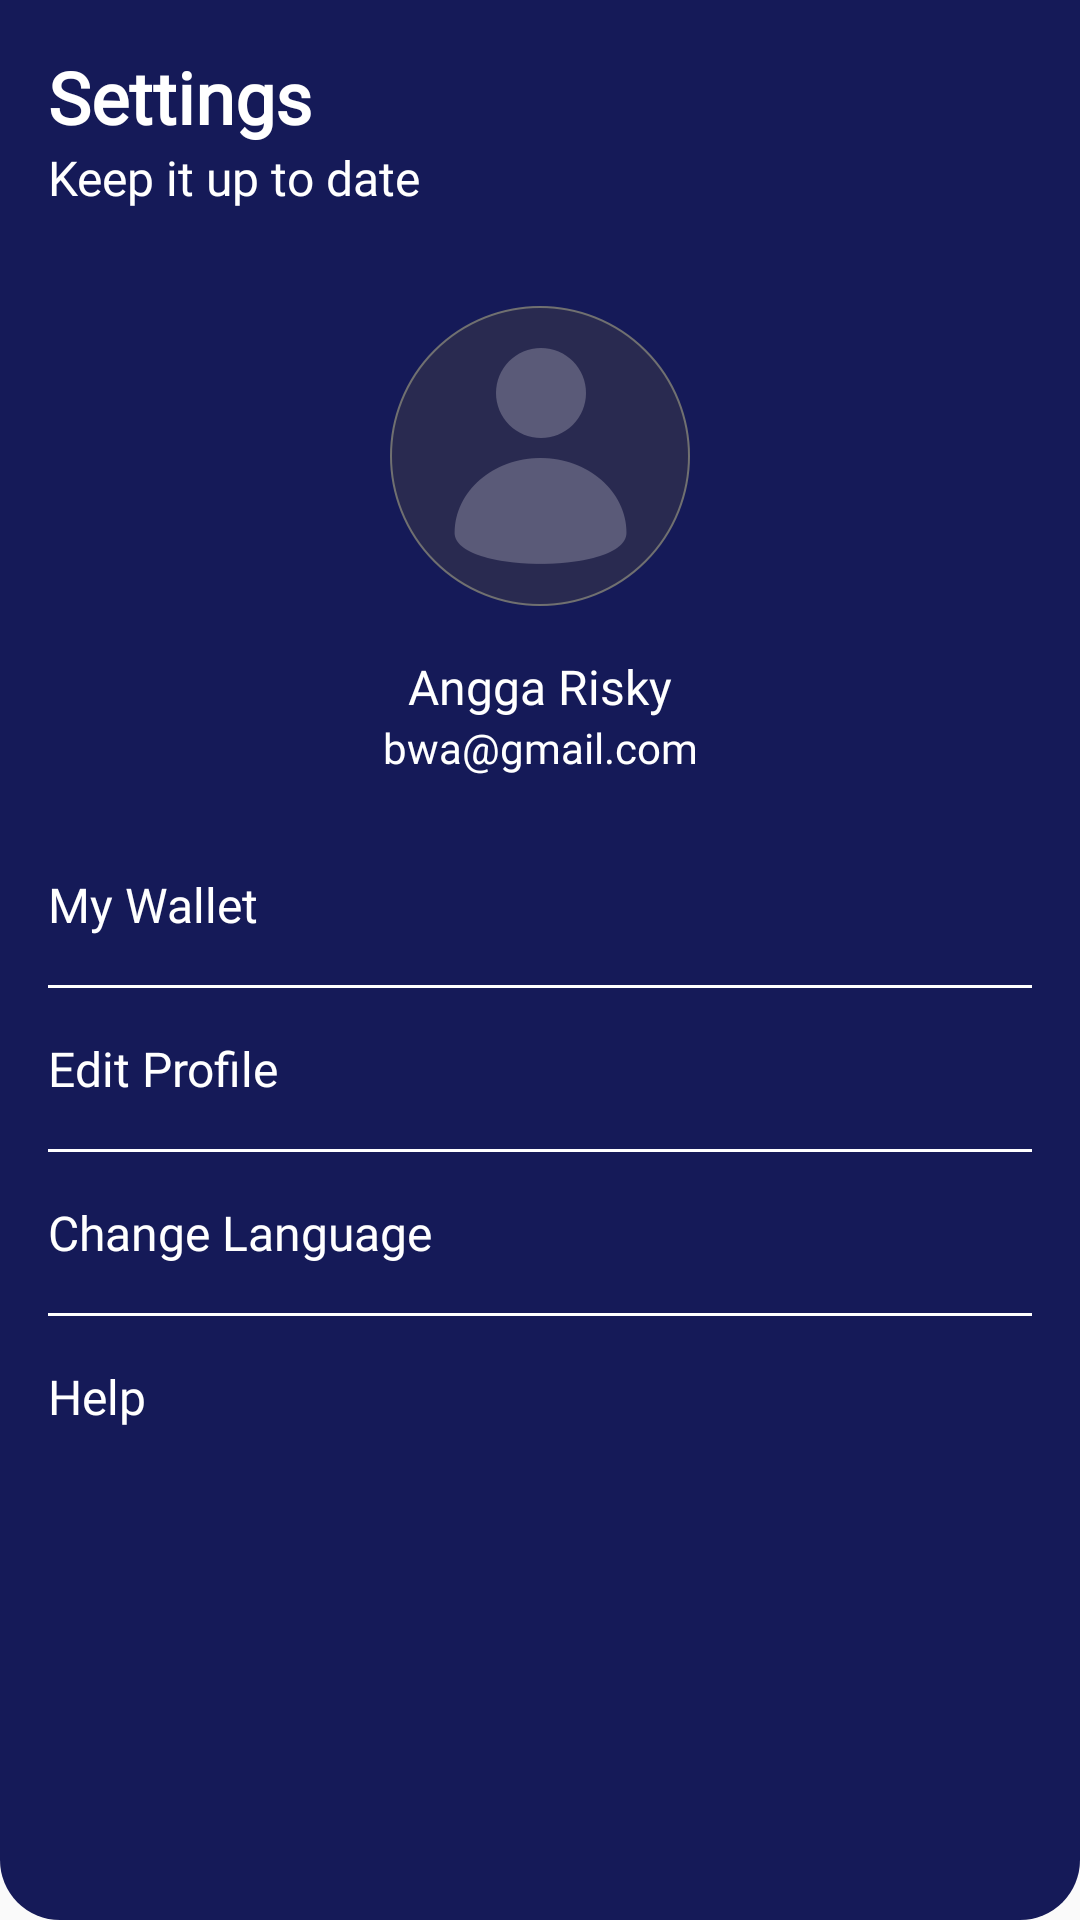

Icons on this 1080×1920 Android screen, each with its box as bbox=[x1, y1, x2, y2]:
user pic: bbox=[390, 306, 690, 606]
